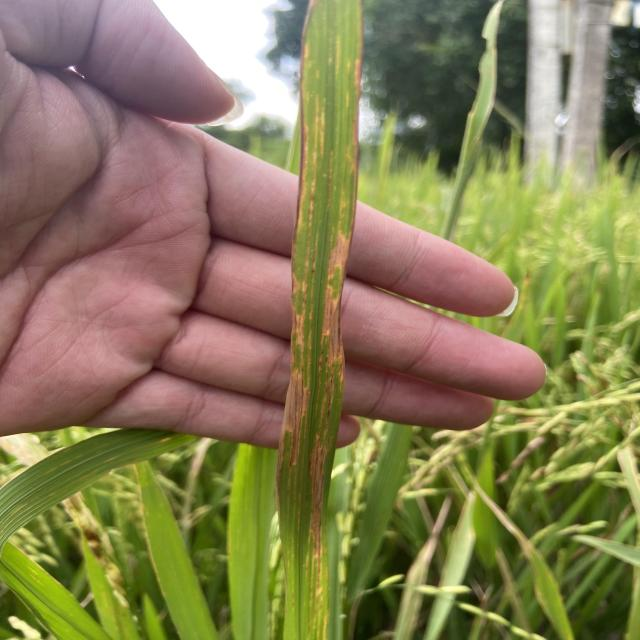Dom soc vi khuan: (275, 244, 311, 506), (314, 228, 352, 440), (308, 431, 329, 618), (308, 94, 319, 240), (320, 110, 325, 157)
